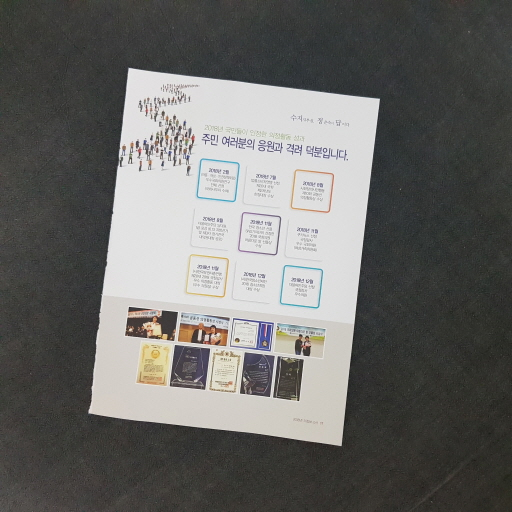Paper_2: (91, 60, 384, 467)
